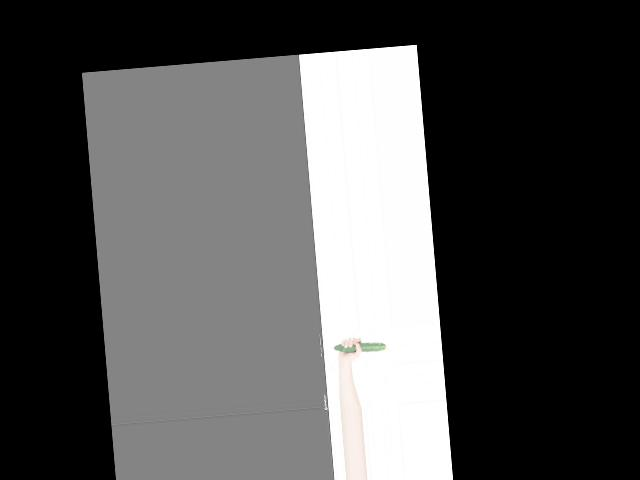cucumber: (332, 339, 385, 354)
